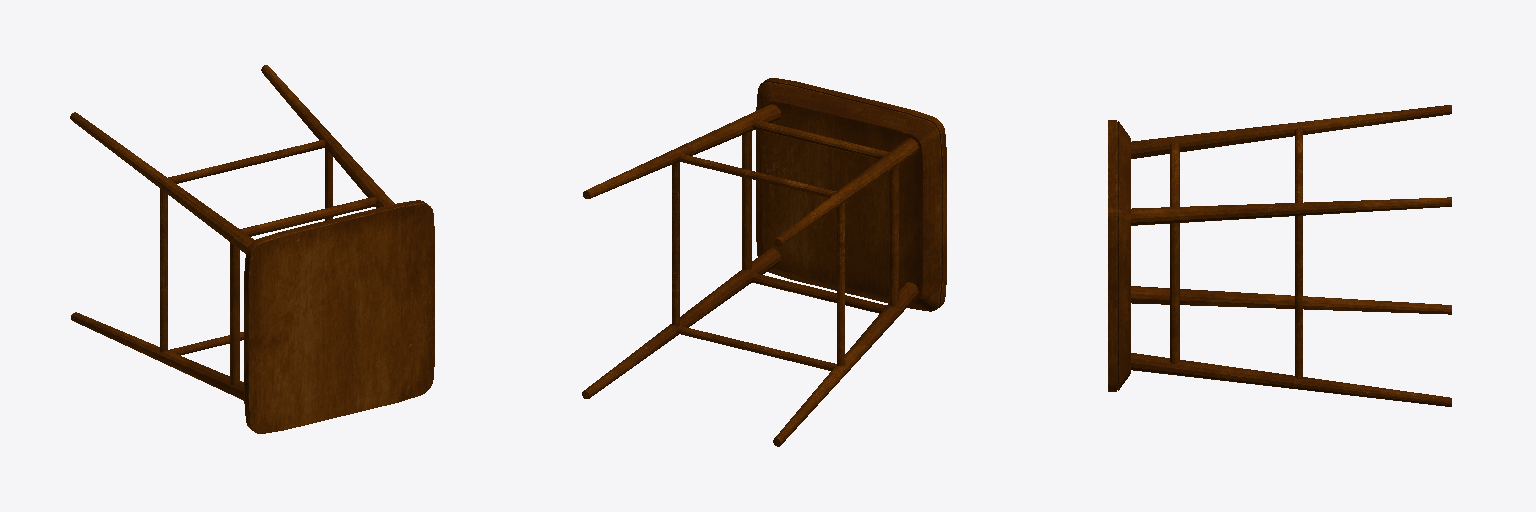
3 renders of one model, left to right at view 1: azimuth 30°, elevation 25°; view 2: azimuth 150°, elevation 25°; view 3: azimuth 270°, elevation 25°, orthographic.
Visible parts, largest first — view 1: model_0; view 2: model_0; view 3: model_0.
Part boxes in pixels (left/top/right/bottom): model_0: left=70, top=65, right=434, bottom=433; model_0: left=582, top=78, right=946, bottom=446; model_0: left=1108, top=105, right=1451, bottom=406.
Bounding box in the file's own units: 4.38 × 4.38 × 6.52.
1 materials, 1 textured.